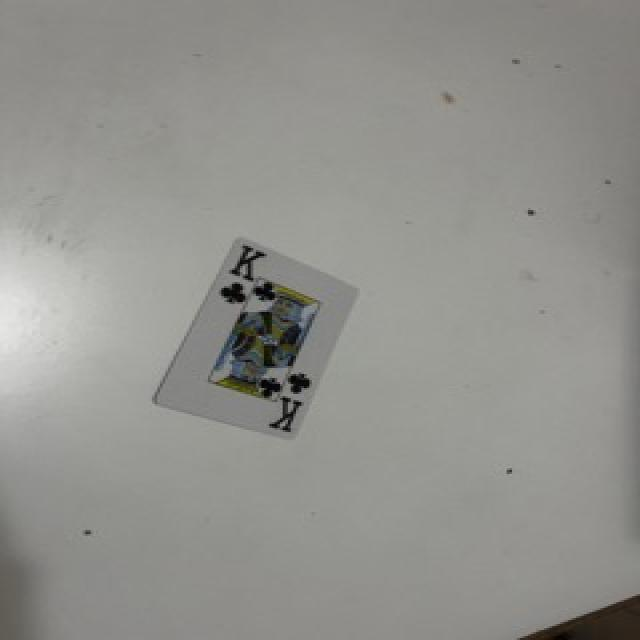King of clubs: (155, 237, 361, 445)
